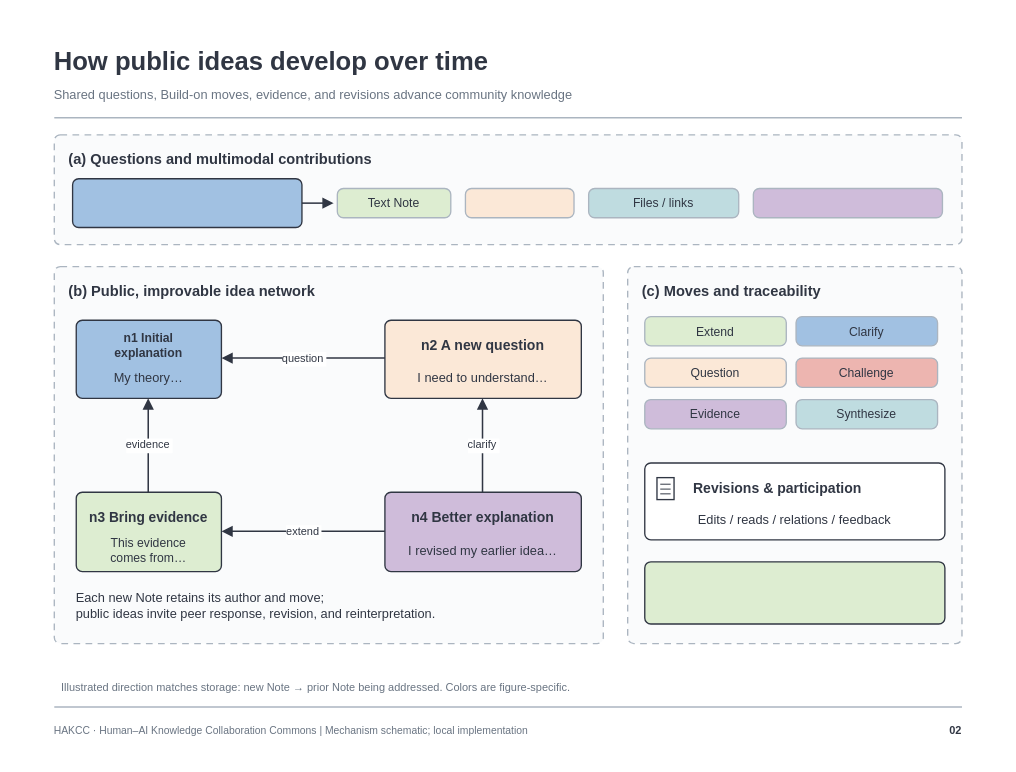
This 1016x772 diagram has some shape labels left out. The centre of each missing label's shape, as x and y in pixels:
"Drawing" belongs at (x=519, y=202).
"Epistemic scaffolds" belongs at (x=847, y=202).
"Promising ideas & knowledge gaps" belongs at (x=794, y=592).
"Shared inquiry problem" belongs at (x=186, y=203).
